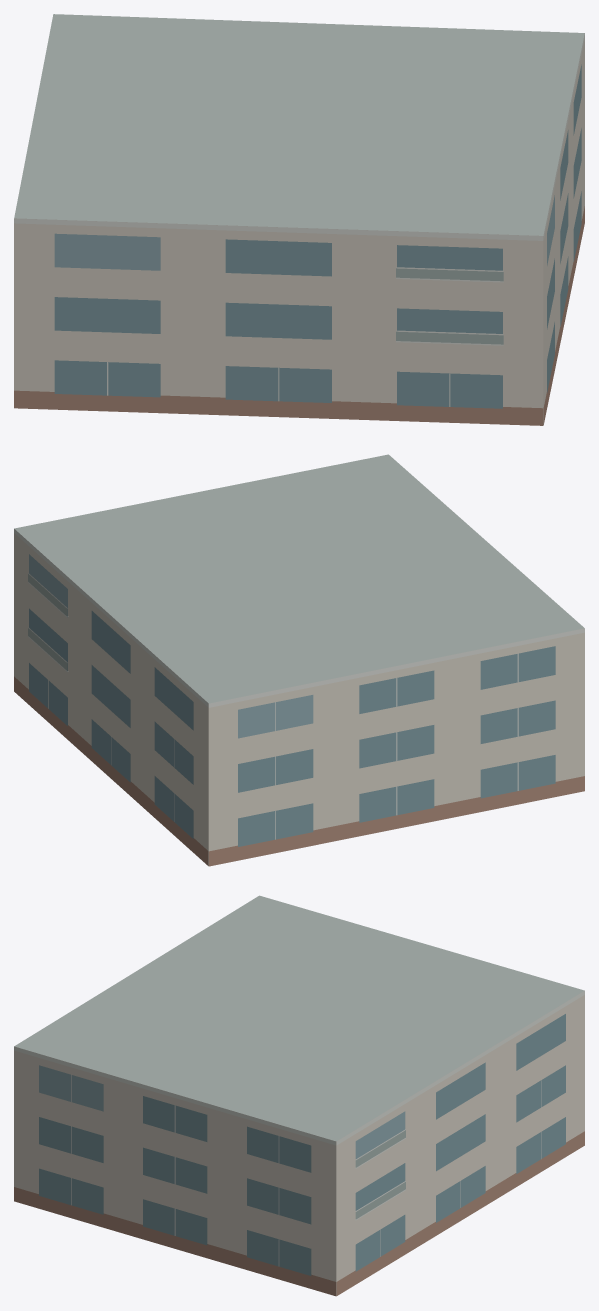
File: survey-upis-32718551.glb
3 views of the same model, one above another, from view 1: azimuth 30°, elevation 25°; view 2: azimuth 150°, elevation 25°; view 3: azimuth 270°, elevation 25° (orthographic). The views are drawn at different scales.
Parts seen in each view (by area): view 1: survey-upis-32718551.tmp; view 2: survey-upis-32718551.tmp; view 3: survey-upis-32718551.tmp.
Part boxes in pixels (x1=…): survey-upis-32718551.tmp: x1=14, y1=14, x2=584, y2=425; survey-upis-32718551.tmp: x1=14, y1=454, x2=584, y2=866; survey-upis-32718551.tmp: x1=14, y1=895, x2=584, y2=1296.
Size of the model in its own units: 31.17 by 9.15 by 30.56.
